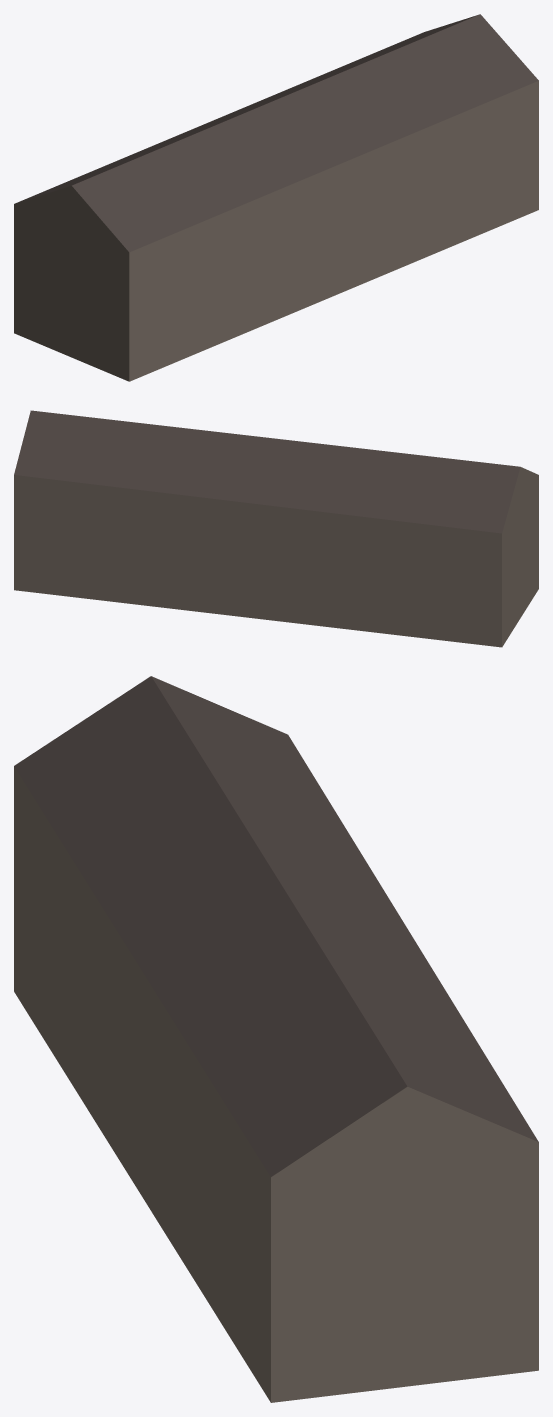
The picture shows the model from 3 angles, top to bottom: view 1: azimuth 30°, elevation 25°; view 2: azimuth 150°, elevation 25°; view 3: azimuth 270°, elevation 25°; orthographic projection. The views are drawn at different scales.
Visible parts, largest first — view 1: HP-w757497627; view 2: HP-w757497627; view 3: HP-w757497627.
Part boxes in pixels (x1=…): HP-w757497627: x1=14, y1=14, x2=538, y2=381; HP-w757497627: x1=14, y1=410, x2=538, y2=647; HP-w757497627: x1=14, y1=676, x2=538, y2=1402.
Bounding box in the file's own units: 37.88 × 11.96 × 18.98.
